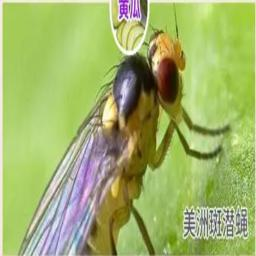liriomyza: (17, 26, 229, 256)
